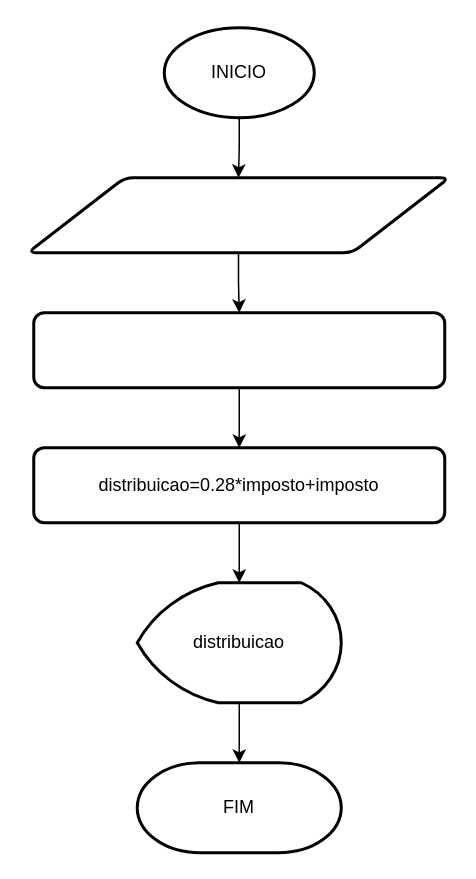
Some shapes in this 476 by 879 pixel diagram are drawn without their labels. The shapes that lost their labels are listed below. From the top down, each one's centre as x and y in pixels, then its label:
At (x=238, y=215): "custo de fábrica do carro".
At (x=239, y=349): "impostos=0.45*custo de fabrica+custo de fabrica".
